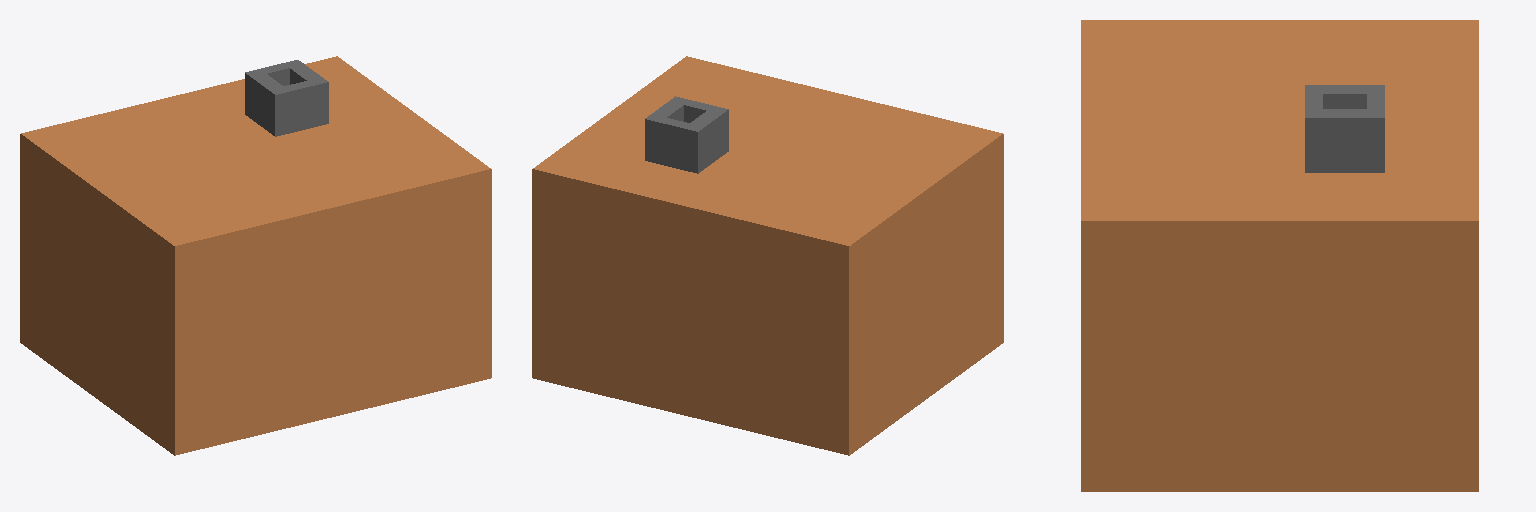
URDF robot description (peg_in_hole_scene_0099_tol08):
<?xml version="1.0"?>
<robot name="peg_in_hole_scene_0099_tol08">
  <material name="wood"><color rgba="0.82 0.56 0.35 1.0"/></material>
  <material name="hole_grey"><color rgba="0.4706 0.4706 0.4706 1.0"/></material>
  <link name="box">
    <visual>
      <origin xyz="0.000000 0.000000 0.000000" rpy="0 0 0"/>
      <geometry><box size="0.475000 0.400000 0.300000"/></geometry>
      <material name="wood"/>
    </visual>
    <collision>
      <origin xyz="0.000000 0.000000 0.000000" rpy="0 0 0"/>
      <geometry><box size="0.475000 0.400000 0.300000"/></geometry>
    </collision>
    <visual>
      <origin xyz="0.083817 0.065440 0.155000" rpy="0 0 0"/>
      <geometry><box size="0.080000 0.080000 0.010000"/></geometry>
      <material name="hole_grey"/>
    </visual>
    <collision>
      <origin xyz="0.083817 0.065440 0.155000" rpy="0 0 0"/>
      <geometry><box size="0.080000 0.080000 0.010000"/></geometry>
    </collision>
    <visual>
      <origin xyz="0.112474 0.065440 0.185000" rpy="0 0 0"/>
      <geometry><box size="0.022687 0.080000 0.050000"/></geometry>
      <material name="hole_grey"/>
    </visual>
    <collision>
      <origin xyz="0.112474 0.065440 0.185000" rpy="0 0 0"/>
      <geometry><box size="0.022687 0.080000 0.050000"/></geometry>
    </collision>
    <visual>
      <origin xyz="0.055160 0.065440 0.185000" rpy="0 0 0"/>
      <geometry><box size="0.022687 0.080000 0.050000"/></geometry>
      <material name="hole_grey"/>
    </visual>
    <collision>
      <origin xyz="0.055160 0.065440 0.185000" rpy="0 0 0"/>
      <geometry><box size="0.022687 0.080000 0.050000"/></geometry>
    </collision>
    <visual>
      <origin xyz="0.083817 0.096597 0.185000" rpy="0 0 0"/>
      <geometry><box size="0.034627 0.017687 0.050000"/></geometry>
      <material name="hole_grey"/>
    </visual>
    <collision>
      <origin xyz="0.083817 0.096597 0.185000" rpy="0 0 0"/>
      <geometry><box size="0.034627 0.017687 0.050000"/></geometry>
    </collision>
    <visual>
      <origin xyz="0.083817 0.034283 0.185000" rpy="0 0 0"/>
      <geometry><box size="0.034627 0.017687 0.050000"/></geometry>
      <material name="hole_grey"/>
    </visual>
    <collision>
      <origin xyz="0.083817 0.034283 0.185000" rpy="0 0 0"/>
      <geometry><box size="0.034627 0.017687 0.050000"/></geometry>
    </collision>
    <inertial>
      <mass value="500"/>
      <friction value="1.0"/>
      <inertia ixx="1000.0" ixy="0.0" ixz="0.0" iyy="1000.0" iyz="0.0" izz="1000.0"/>
    </inertial>
  </link>
</robot>

--- Render facts (derived) ---
3 views of the same robot in one strip: view 1: azimuth 30°, elevation 25°; view 2: azimuth 150°, elevation 25°; view 3: azimuth 270°, elevation 25° (orthographic).
Model peg_in_hole_scene_0099_tol08 with 1 links and 0 joints (none), rooted at box, posed all joints at 0.
Visible links, largest first — view 1: box; view 2: box; view 3: box.
Link boxes in pixels (x1,y1,x2,y2): box: (20, 56, 491, 455); box: (532, 56, 1003, 455); box: (1081, 20, 1478, 491).
Size in the robot's own frame: 0.475 by 0.4 by 0.36 metres.
Geometry: primitives only (box / cylinder / sphere), no mesh files.
